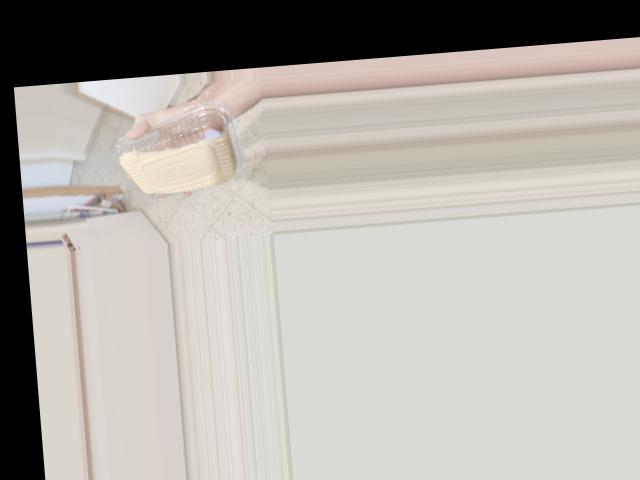cheese: (141, 123, 252, 184)
